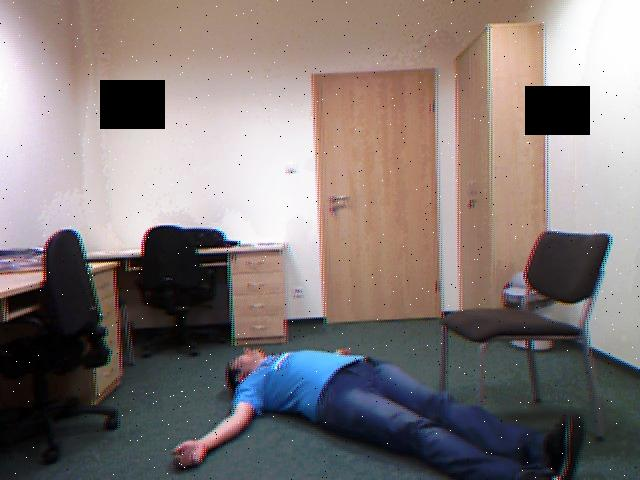fall: (168, 332, 593, 480)
